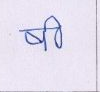i_matra: (47, 15, 65, 49)
